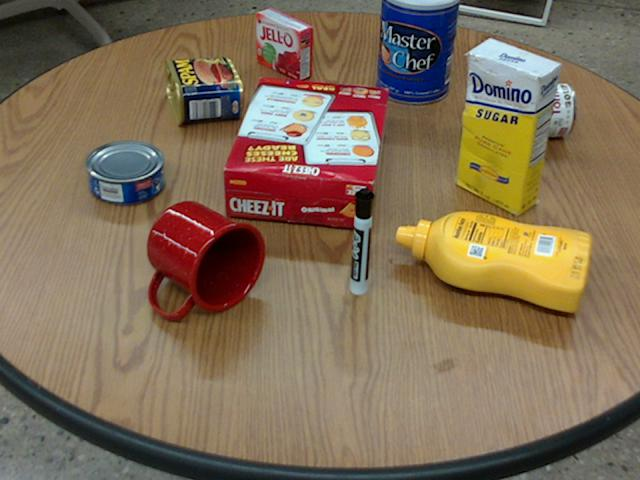cracker_box: (222, 79, 387, 229)
gelatin_box: (256, 8, 312, 79)
large_marker: (349, 187, 372, 294)
master_chef_can: (376, 0, 459, 103)
mug: (144, 201, 263, 317)
mustard_bottle: (395, 211, 589, 311)
potted_meat_can: (164, 57, 241, 123)
sugar_box: (458, 38, 559, 215)
tomato_soup_can: (480, 82, 574, 137)
tuna_fish_can: (85, 140, 163, 204)
